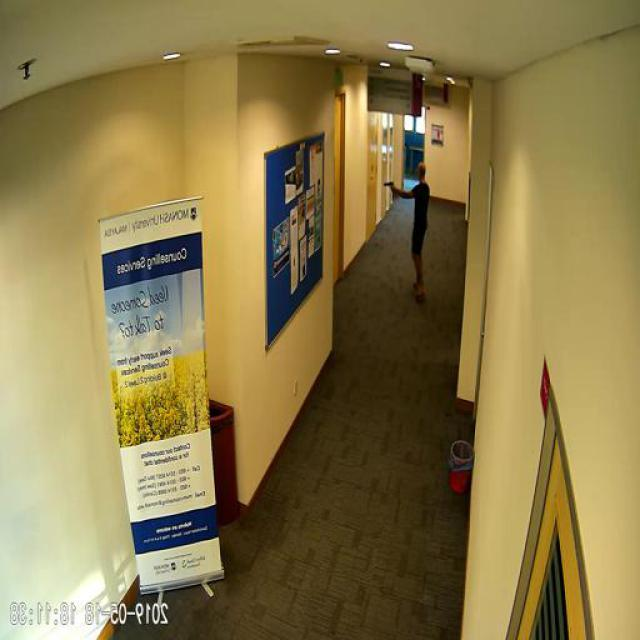Gun: (384, 178, 398, 194)
